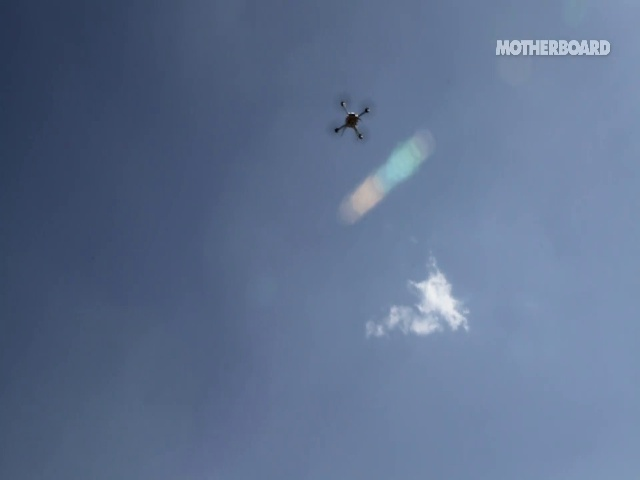drone: (325, 90, 379, 148)
